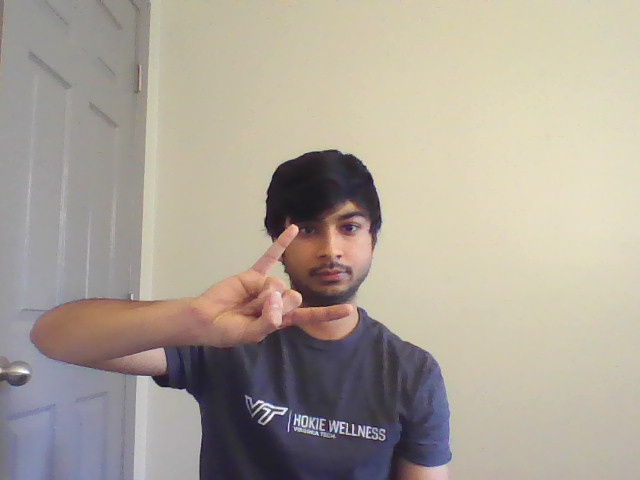help: (202, 219, 355, 354)
